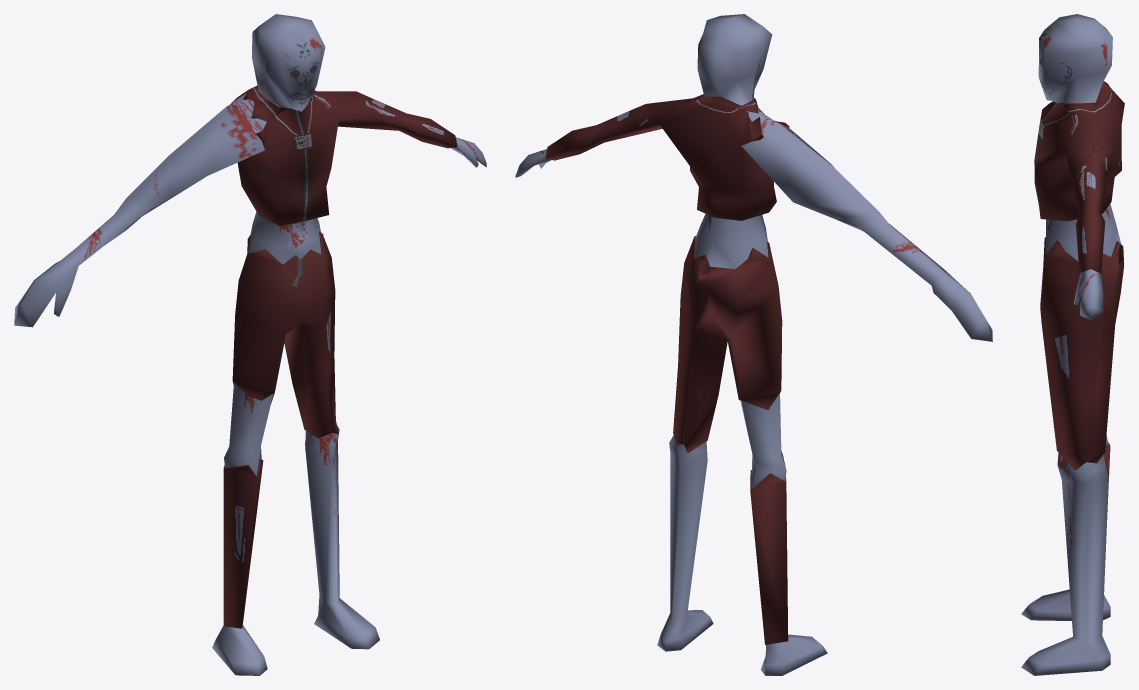
File: CriaturaRicardo.fbx
The picture shows the model from 3 angles, left to right: view 1: azimuth 30°, elevation 25°; view 2: azimuth 150°, elevation 25°; view 3: azimuth 270°, elevation 25°; orthographic projection.
Parts seen in each view (by area): view 1: HumanoidBase_NotOverlapping.020, HumanoidBase_NotOverlapping.019; view 2: HumanoidBase_NotOverlapping.020, HumanoidBase_NotOverlapping.019; view 3: HumanoidBase_NotOverlapping.020, HumanoidBase_NotOverlapping.019.
Part boxes in pixels (left/top/right/bottom): HumanoidBase_NotOverlapping.020: left=223, top=85, right=457, bottom=628; HumanoidBase_NotOverlapping.019: left=14, top=14, right=486, bottom=675; HumanoidBase_NotOverlapping.020: left=545, top=94, right=789, bottom=644; HumanoidBase_NotOverlapping.019: left=515, top=14, right=992, bottom=675; HumanoidBase_NotOverlapping.020: left=1034, top=81, right=1124, bottom=519; HumanoidBase_NotOverlapping.019: left=1021, top=14, right=1120, bottom=675.
Size of the model in its own units: 160 by 202 by 30.54.
2 materials, 2 textured.
